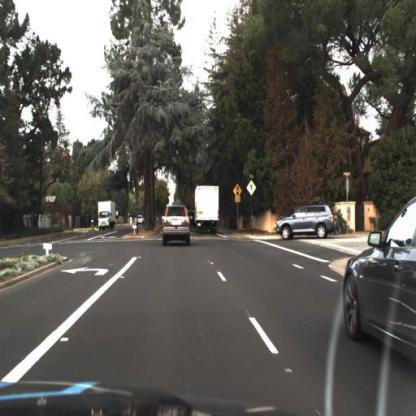car: (341, 190, 416, 369), (273, 202, 338, 244), (274, 205, 337, 242), (158, 196, 194, 253), (191, 183, 224, 237), (97, 198, 118, 232), (138, 214, 144, 226)
truck: (195, 183, 221, 234), (97, 201, 117, 233)
